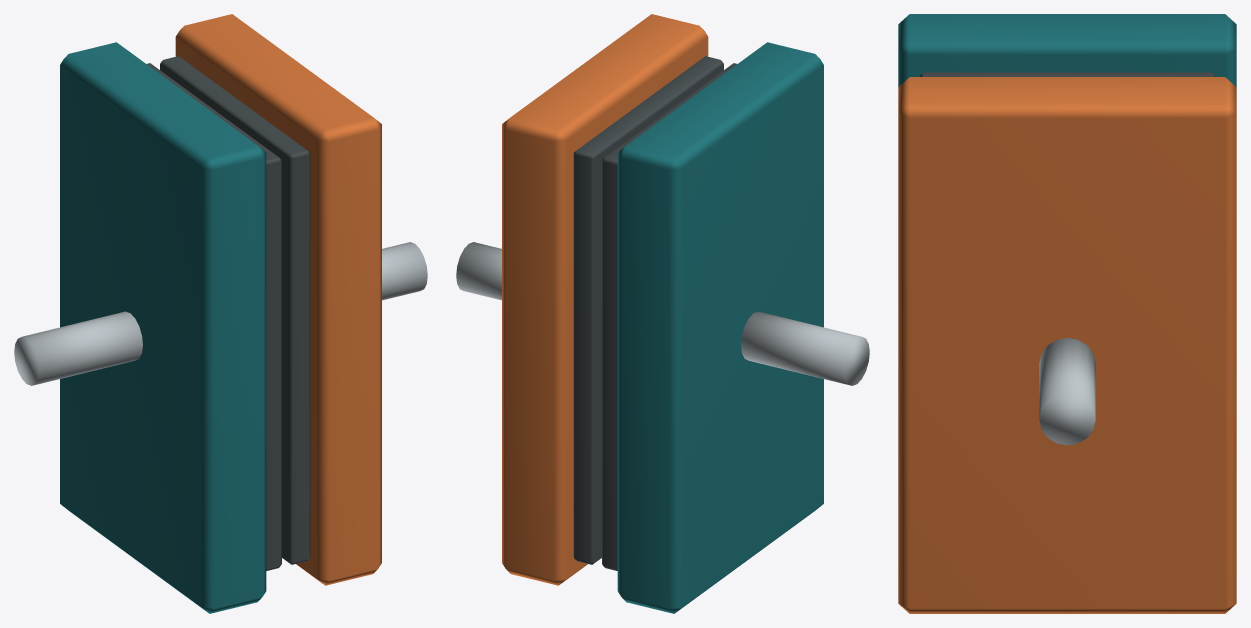
Rendered from VLAB_latch.fbx.
3 views of the same model, side by side, from view 1: azimuth 30°, elevation 25°; view 2: azimuth 150°, elevation 25°; view 3: azimuth 270°, elevation 25° (orthographic). The views are drawn at different scales.
Visible parts, largest first — view 1: VLAB_latch_SideA_VIS, VLAB_latch_SideB_VIS; view 2: VLAB_latch_SideA_VIS, VLAB_latch_SideB_VIS; view 3: VLAB_latch_SideB_VIS, VLAB_latch_SideA_VIS.
Part boxes in pixels (box(x1,y1,x2,y2)): VLAB_latch_SideA_VIS: box(14, 42, 281, 613); VLAB_latch_SideB_VIS: box(160, 14, 427, 585); VLAB_latch_SideA_VIS: box(602, 42, 869, 613); VLAB_latch_SideB_VIS: box(456, 14, 723, 585); VLAB_latch_SideB_VIS: box(898, 77, 1236, 613); VLAB_latch_SideA_VIS: box(898, 14, 1236, 86).
Size of the model in its own units: 0.0356 by 0.04 by 0.024.
